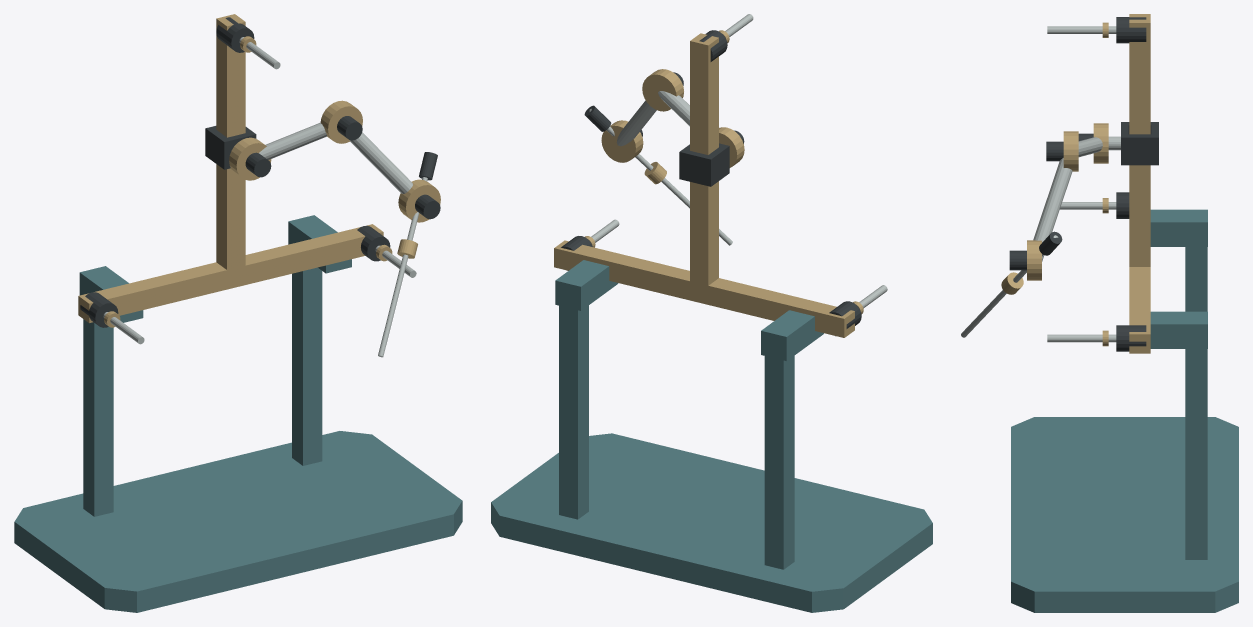
3 renders of one model, left to right at view 1: azimuth 30°, elevation 25°; view 2: azimuth 150°, elevation 25°; view 3: azimuth 270°, elevation 25°, orthographic.
Parts seen in each view (by area): view 1: WholeCarrierGroundFoot, WholeInvertedTDatumFrame, WholeCarrierRearUpright1, WholeCarrierRearUpright0, WholeSecondSpatialReachArm, WholeCrossbarCarrierMount1, WholeCrossbarCarrierMount0, WholeThroughFrameArmCollar, WholeFirstSpatialReachArm, WholeArticulatedClampDisc1, WholeArticulatedClampDisc0, WholeArticulatedClampDisc2 (+4 smaller); view 2: WholeCarrierGroundFoot, WholeInvertedTDatumFrame, WholeCarrierRearUpright0, WholeCarrierRearUpright1, WholeCrossbarCarrierMount1, WholeCrossbarCarrierMount0, WholeThroughFrameArmCollar, WholeArticulatedClampDisc1, WholeArticulatedClampDisc2, WholeSecondSpatialReachArm, WholeArticulatedClampDisc0; view 3: WholeCarrierGroundFoot, WholeInvertedTDatumFrame, WholeCarrierRearUpright1, WholeCrossbarCarrierMount0, WholeCrossbarCarrierMount1, WholeCarrierRearUpright0, WholeThroughFrameArmCollar, WholeSecondSpatialReachArm, WholeDatumSocket2, WholeArticulatedClampDisc1, WholeDatumSocket1, WholeArticulatedClampDisc2 (+6 smaller).
Boxes of the visible parts, x1=… form: WholeCarrierGroundFoot: x1=14, y1=431, x2=462, y2=612; WholeInvertedTDatumFrame: x1=78, y1=14, x2=383, y2=323; WholeCarrierRearUpright1: x1=292, y1=267, x2=322, y2=465; WholeCarrierRearUpright0: x1=83, y1=319, x2=113, y2=516; WholeSecondSpatialReachArm: x1=349, y1=132, x2=412, y2=193; WholeCrossbarCarrierMount1: x1=288, y1=215, x2=351, y2=273; WholeCrossbarCarrierMount0: x1=79, y1=266, x2=143, y2=322; WholeThroughFrameArmCollar: x1=205, y1=126, x2=256, y2=169; WholeFirstSpatialReachArm: x1=259, y1=122, x2=327, y2=159; WholeArticulatedClampDisc1: x1=320, y1=100, x2=362, y2=143; WholeArticulatedClampDisc0: x1=229, y1=137, x2=271, y2=180; WholeArticulatedClampDisc2: x1=398, y1=179, x2=440, y2=222; WholeCarrierGroundFoot: x1=491, y1=433, x2=932, y2=612; WholeInvertedTDatumFrame: x1=554, y1=33, x2=854, y2=337; WholeCarrierRearUpright0: x1=764, y1=356, x2=794, y2=569; WholeCarrierRearUpright1: x1=559, y1=305, x2=588, y2=519; WholeCrossbarCarrierMount1: x1=555, y1=260, x2=618, y2=310; WholeCrossbarCarrierMount0: x1=761, y1=310, x2=823, y2=361; WholeThroughFrameArmCollar: x1=679, y1=143, x2=729, y2=186; WholeArticulatedClampDisc1: x1=642, y1=69, x2=683, y2=111; WholeArticulatedClampDisc2: x1=601, y1=120, x2=643, y2=162; WholeSecondSpatialReachArm: x1=616, y1=100, x2=656, y2=146; WholeArticulatedClampDisc0: x1=719, y1=127, x2=744, y2=167; WholeCarrierGroundFoot: x1=1011, y1=417, x2=1238, y2=612; WholeInvertedTDatumFrame: x1=1129, y1=14, x2=1150, y2=353; WholeCarrierRearUpright1: x1=1185, y1=349, x2=1207, y2=559; WholeCrossbarCarrierMount0: x1=1150, y1=209, x2=1207, y2=246; WholeCrossbarCarrierMount1: x1=1150, y1=311, x2=1207, y2=348; WholeCarrierRearUpright0: x1=1185, y1=247, x2=1207, y2=311; WholeThroughFrameArmCollar: x1=1121, y1=122, x2=1158, y2=165; WholeSecondSpatialReachArm: x1=1033, y1=158, x2=1072, y2=261; WholeDatumSocket2: x1=1116, y1=17, x2=1146, y2=43; WholeArticulatedClampDisc1: x1=1063, y1=131, x2=1078, y2=171; WholeDatumSocket1: x1=1116, y1=325, x2=1146, y2=351; WholeArticulatedClampDisc2: x1=1027, y1=240, x2=1041, y2=280.
Bounding box in the file's own units: 0.96 × 1.3 × 0.6458.
